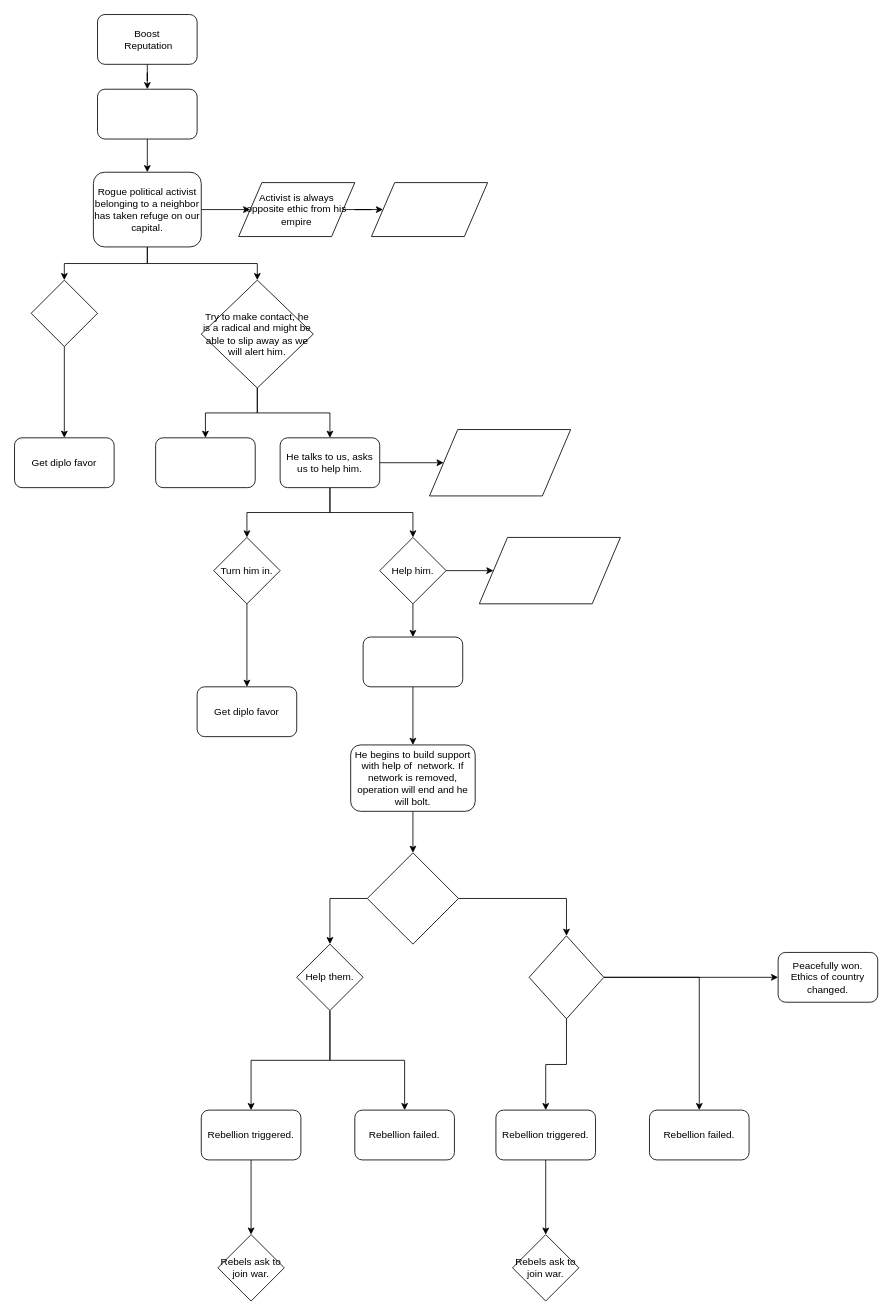
The diagram is 892 pixels wide and 1316 high, and some of its shapes have lost their labels. The box of each missing label's shape, as (x1, y1, x2, y2) in pixels:
Claims to have mamy supportes back home.: (429, 429, 571, 496)
Crit Success: (97, 88, 197, 139)
He bolted: (155, 437, 255, 488)
Insist on slower, peaceful method.: (528, 935, 604, 1019)
Maybe is same ethic as player country: (371, 182, 488, 237)
Once network is established.: (362, 636, 463, 687)
Turn him in: (30, 279, 98, 347)
Violent takeover, needs more supplies.: (366, 852, 459, 944)
Will need to establish a network in his home country: (478, 537, 620, 604)
